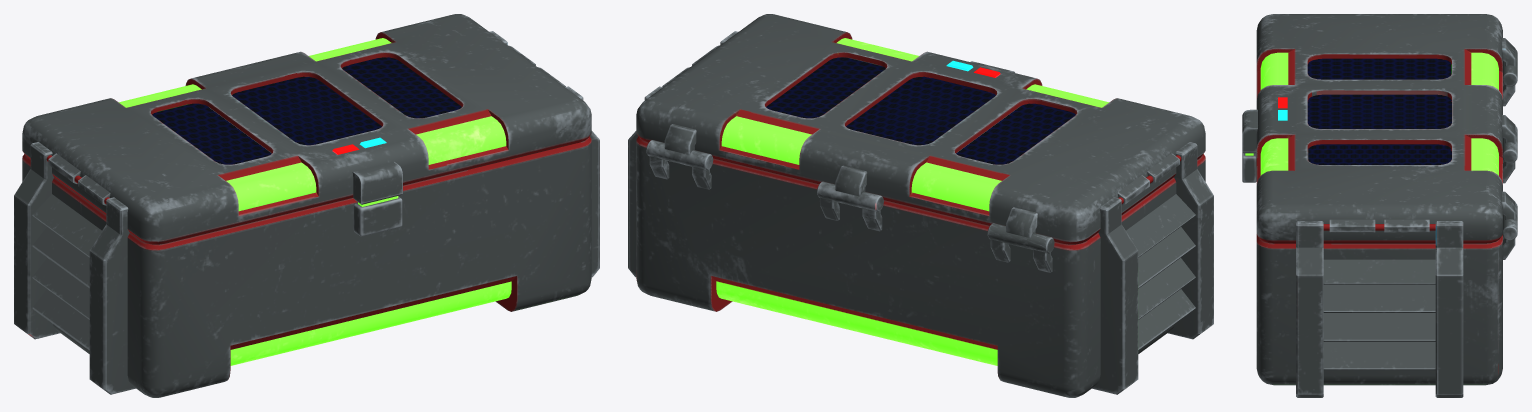
Rendered from BoxSH.fbx.
3 views of the same model, side by side, from view 1: azimuth 30°, elevation 25°; view 2: azimuth 150°, elevation 25°; view 3: azimuth 270°, elevation 25° (orthographic). The views are drawn at different scales.
Visible parts, largest first — view 1: Object001, Object005; view 2: Object001, Object005; view 3: Object005, Object001.
Boxes of the visible parts, x1,y1,x2,y2 form: Object001: (14,131,599,397); Object005: (22,14,591,244); Object001: (628,131,1213,397); Object005: (636,14,1205,244); Object005: (1242,14,1515,247); Object001: (1242,49,1517,397).
Bounding box in the file's own units: 182 × 68.79 × 94.67.
1 material, 1 textured.
